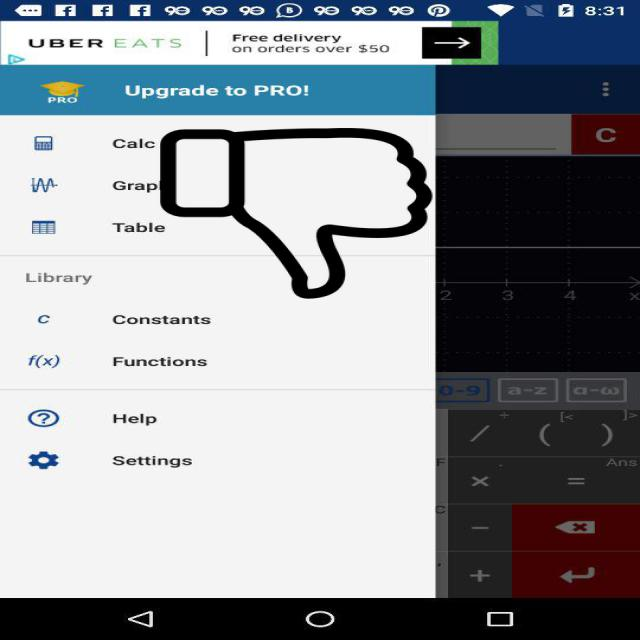obstruction: (157, 128, 436, 299)
